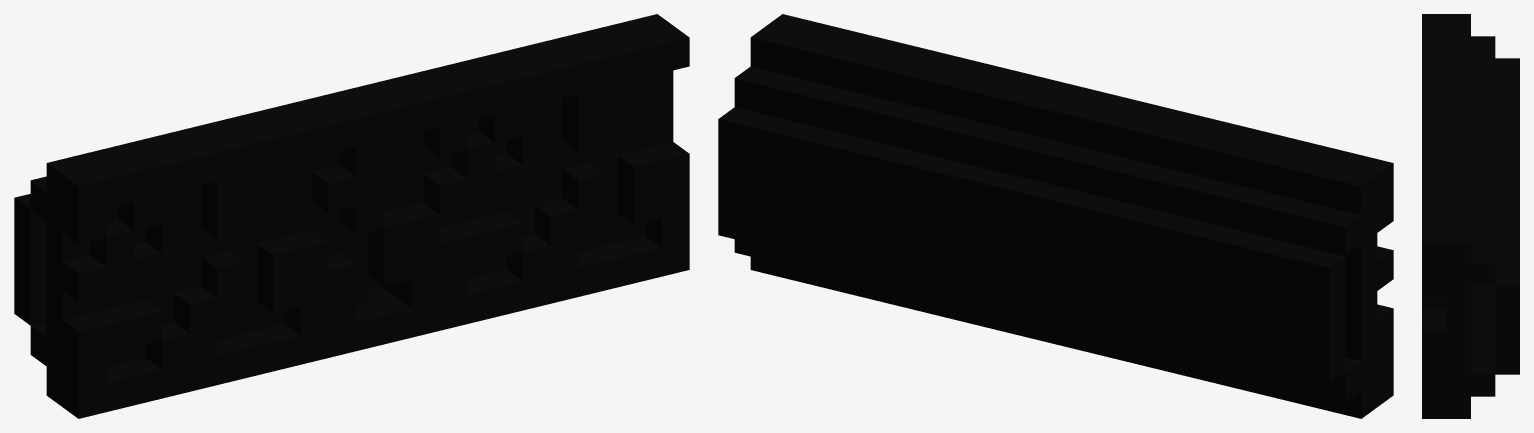
File: LargeGauge_Full_Mid.002.fbx
3 views of the same model, side by side, from view 1: azimuth 30°, elevation 25°; view 2: azimuth 150°, elevation 25°; view 3: azimuth 270°, elevation 25° (orthographic). The views are drawn at different scales.
Visible parts, largest first — view 1: LargeGauge_Full_Mid.002; view 2: LargeGauge_Full_Mid.002; view 3: LargeGauge_Full_Mid.002.
Boxes of the visible parts, <box> form: LargeGauge_Full_Mid.002: <box>14,14,689,418</box>; LargeGauge_Full_Mid.002: <box>718,14,1393,418</box>; LargeGauge_Full_Mid.002: <box>1422,14,1519,418</box>.
Size of the model in its own units: 2.2 by 0.8 by 0.4.
